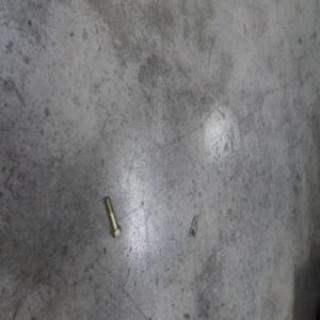Bolttrack_idkeyframe: (101, 194, 120, 239)
